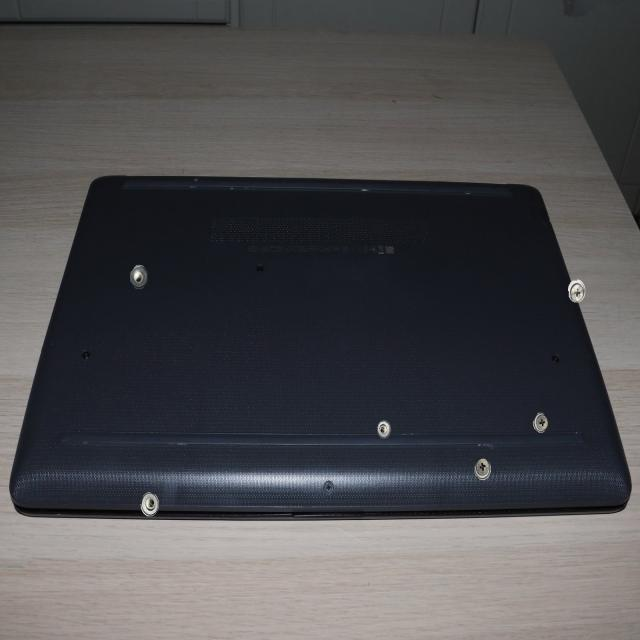lock: (568, 279, 585, 302), (474, 458, 491, 480), (533, 412, 548, 433)
missing_screw: (140, 492, 159, 516), (130, 265, 148, 289), (377, 420, 390, 438)
